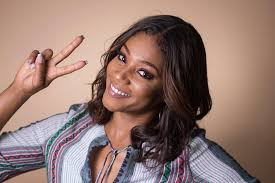black_female: (73, 10, 215, 118)
